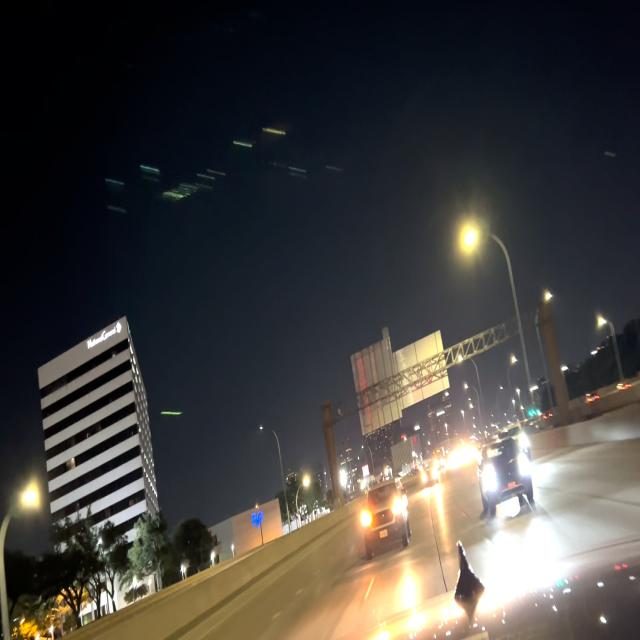back-of-sign: (351, 325, 450, 436)
